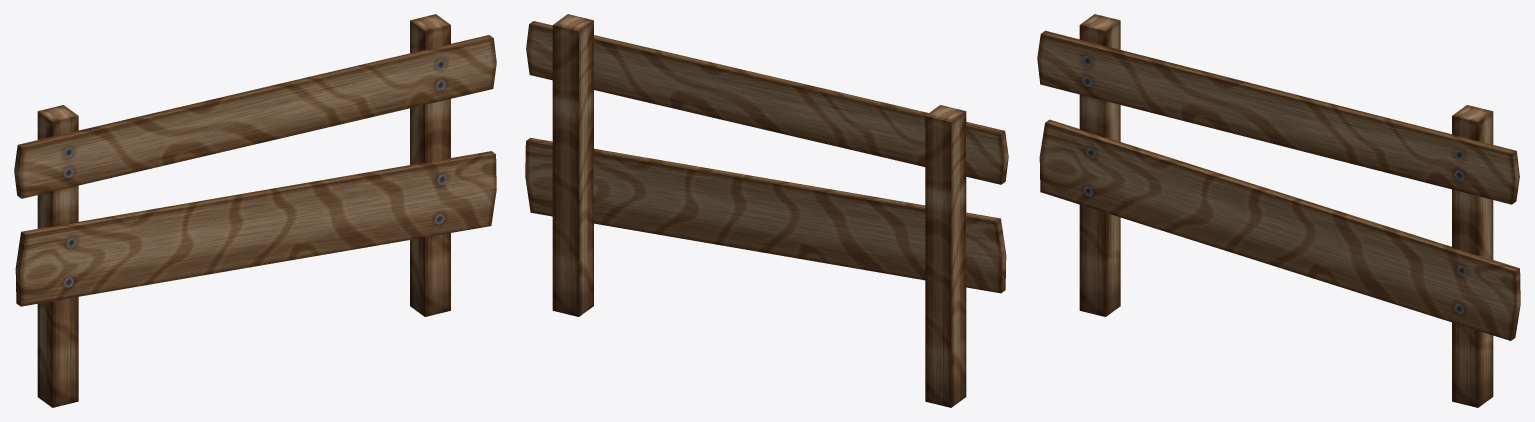
Rendered from FenceA.fbx.
3 views of the same model, side by side, from view 1: azimuth 30°, elevation 25°; view 2: azimuth 150°, elevation 25°; view 3: azimuth 330°, elevation 25° (orthographic).
Parts seen in each view (by area): view 1: FenceA; view 2: FenceA; view 3: FenceA.
Part boxes in pixels (x1,y1,x2,y2): FenceA: (14,14,496,407); FenceA: (525,14,1008,407); FenceA: (1037,14,1520,407).
Bounding box in the file's own units: 4.24 × 2.42 × 0.2956.
